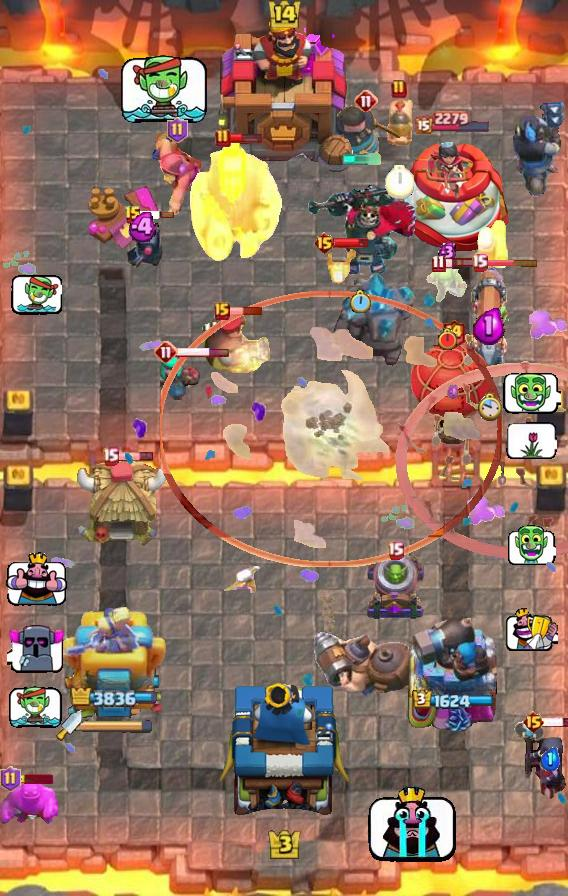bar: (60, 607, 168, 731)
battle-healer: (465, 265, 513, 377)
battle-ram: (123, 219, 165, 273)
cannon-cart: (411, 342, 495, 444)
cannoneer-tower: (329, 273, 417, 371)
electro-spirit: (473, 306, 505, 345), (128, 212, 160, 242), (540, 747, 560, 771), (438, 240, 457, 264), (448, 384, 461, 400)
elixir: (385, 165, 414, 199), (477, 392, 502, 422), (350, 290, 372, 315), (437, 328, 458, 351)
emote: (176, 346, 230, 357), (485, 258, 539, 267), (443, 257, 480, 269), (333, 237, 369, 249), (118, 451, 155, 462), (230, 132, 263, 144), (139, 210, 175, 220), (17, 774, 53, 784), (229, 306, 264, 316), (542, 717, 568, 728)
executioner: (383, 94, 415, 152)
fireball: (147, 133, 207, 221)
fisherman: (317, 597, 340, 647)
giant-skeleton: (187, 136, 283, 264)
goblin-cage: (363, 552, 427, 622)
heal-spirit: (215, 565, 263, 597)
ice-spirit: (340, 153, 382, 165)
ice-spirit-evolution: (318, 244, 356, 286)
inferno-dragon: (510, 98, 568, 198)
inferno-tower: (304, 177, 418, 277)
king-tower: (211, 7, 357, 181), (219, 678, 349, 826)
king-tower-bar: (82, 719, 154, 733)
phoenix-small: (198, 309, 272, 373)
prince: (73, 459, 167, 549)
queen-tower: (390, 137, 516, 255)
rascal-boy: (512, 719, 568, 801)
royal-ghost: (160, 291, 502, 567)
royal-hog: (326, 103, 406, 175)
selected: (414, 110, 492, 134), (412, 689, 494, 711), (70, 689, 158, 707)
skeleton: (366, 780, 458, 864), (120, 54, 210, 126), (5, 552, 66, 607), (6, 622, 65, 674), (503, 371, 562, 416), (9, 687, 63, 730), (10, 274, 62, 317), (506, 609, 559, 651), (508, 525, 557, 567), (507, 421, 558, 458)
skeleton-barrel: (396, 316, 568, 560)
text: (442, 319, 467, 350), (354, 89, 378, 113), (154, 340, 178, 364), (313, 231, 336, 255), (523, 710, 546, 734), (167, 117, 188, 143), (0, 766, 20, 792), (124, 205, 142, 225), (101, 447, 119, 466), (387, 540, 405, 559), (471, 253, 488, 272), (391, 79, 407, 99), (215, 128, 231, 148), (214, 302, 230, 320), (431, 255, 446, 273)
tombstone: (468, 217, 510, 275)
tornado: (0, 779, 58, 825)
tower-bar: (407, 611, 499, 731)
witch: (157, 354, 201, 400)
wizard: (310, 629, 422, 699)
zap: (426, 266, 468, 306)
